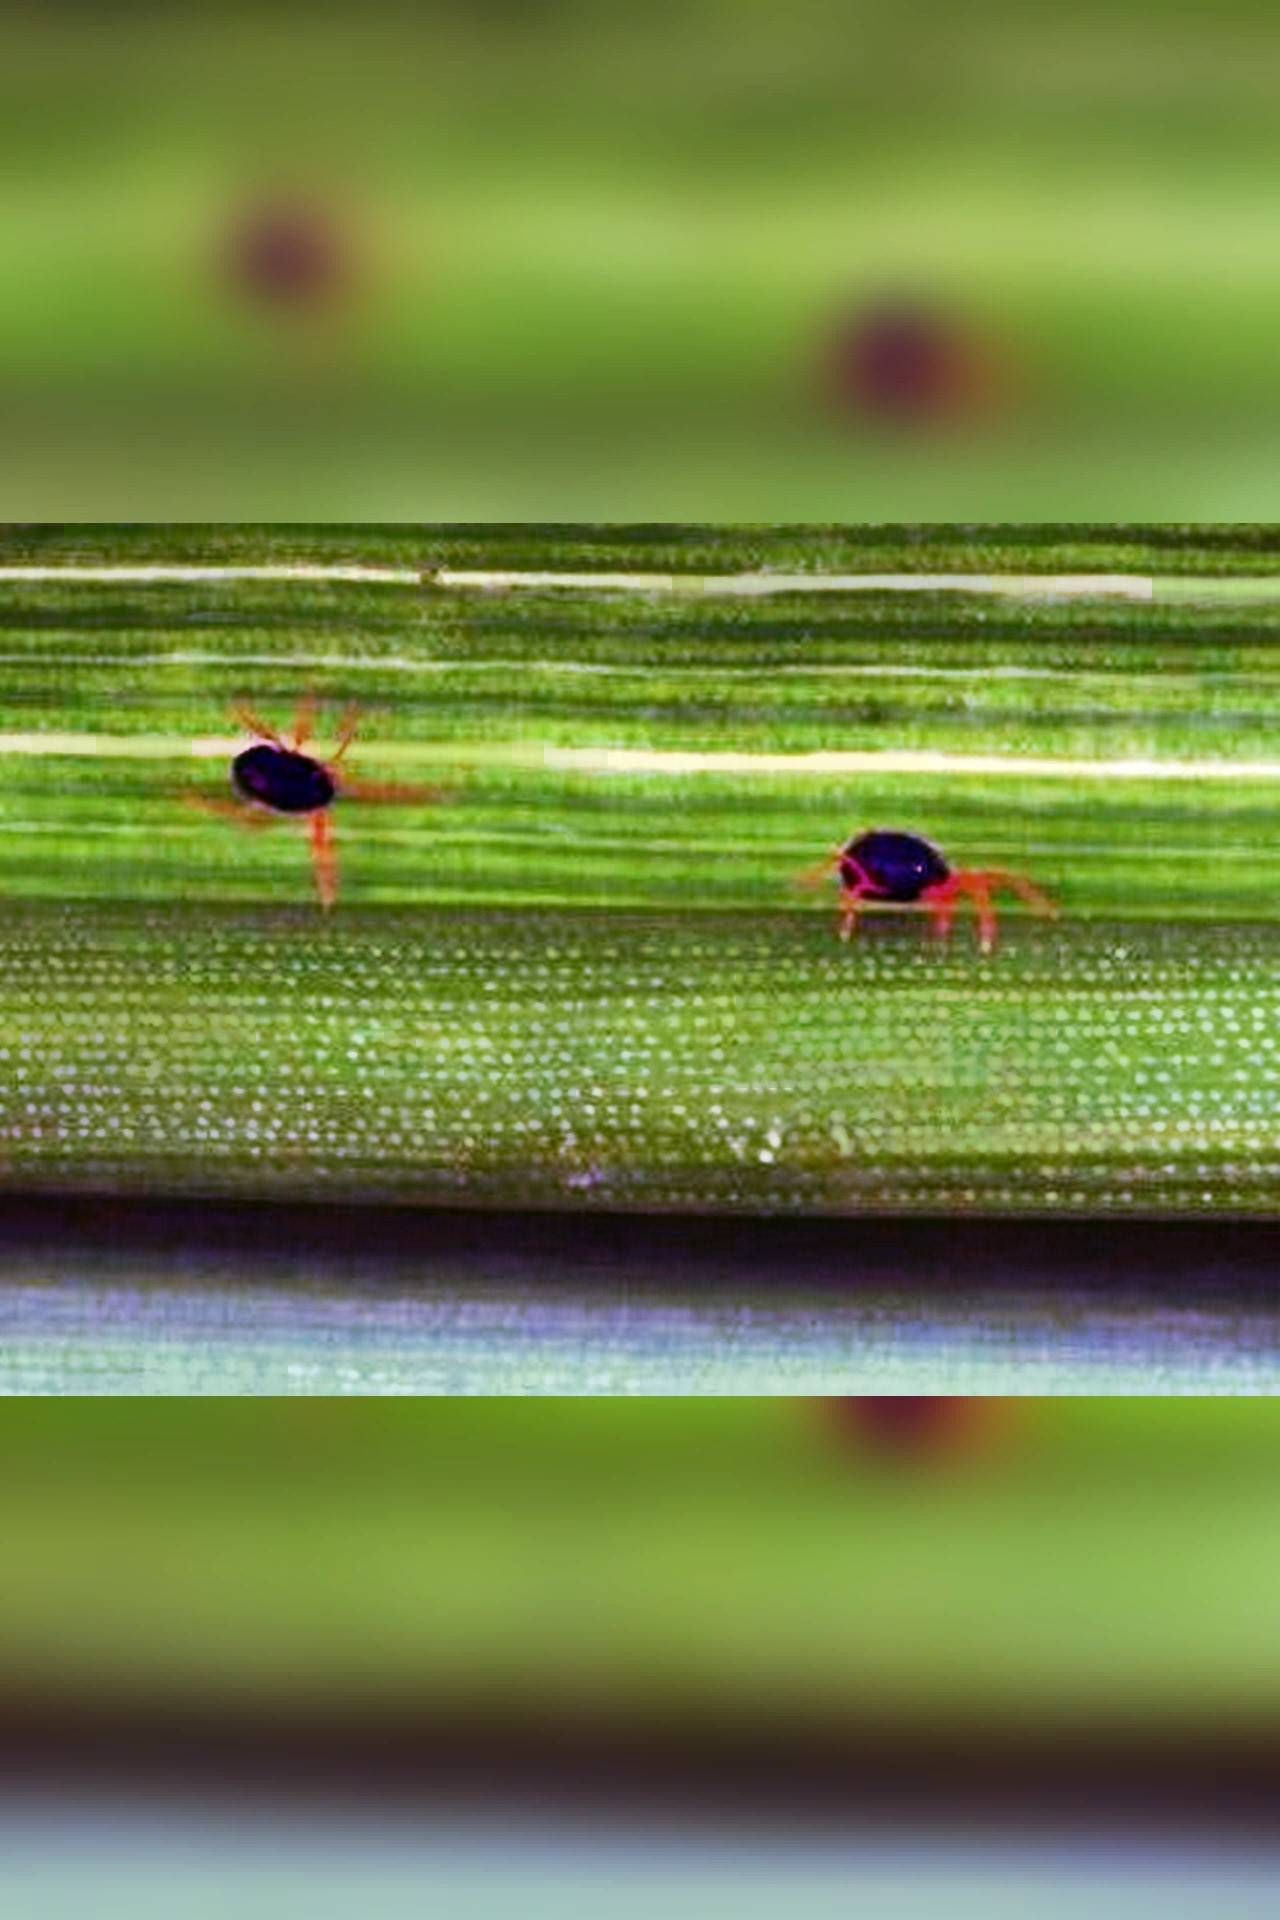Wheat Red Spider: (774, 807, 1086, 980)
